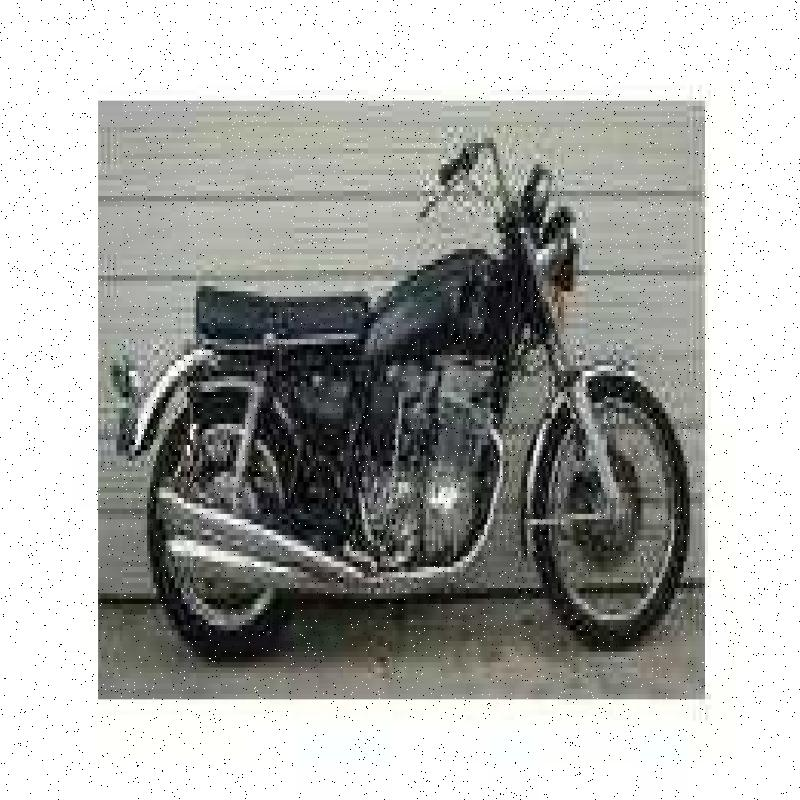bike: (107, 111, 698, 659)
